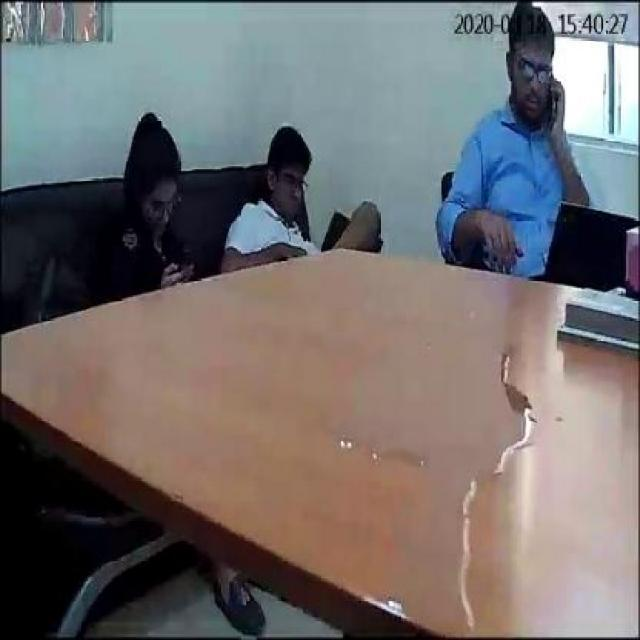spill: (342, 348, 538, 626)
